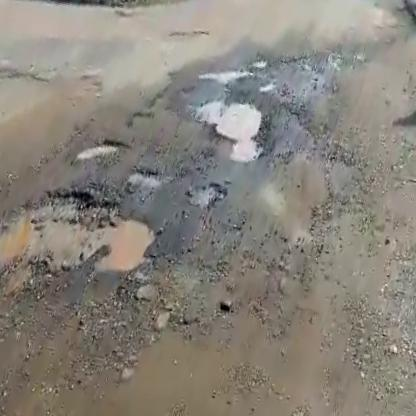pothole: (0, 166, 168, 304), (180, 88, 271, 168), (79, 127, 134, 171), (178, 174, 223, 211), (125, 163, 168, 195)
